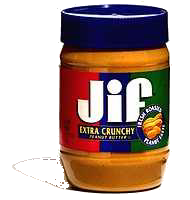grozi_108: (58, 4, 170, 194)
